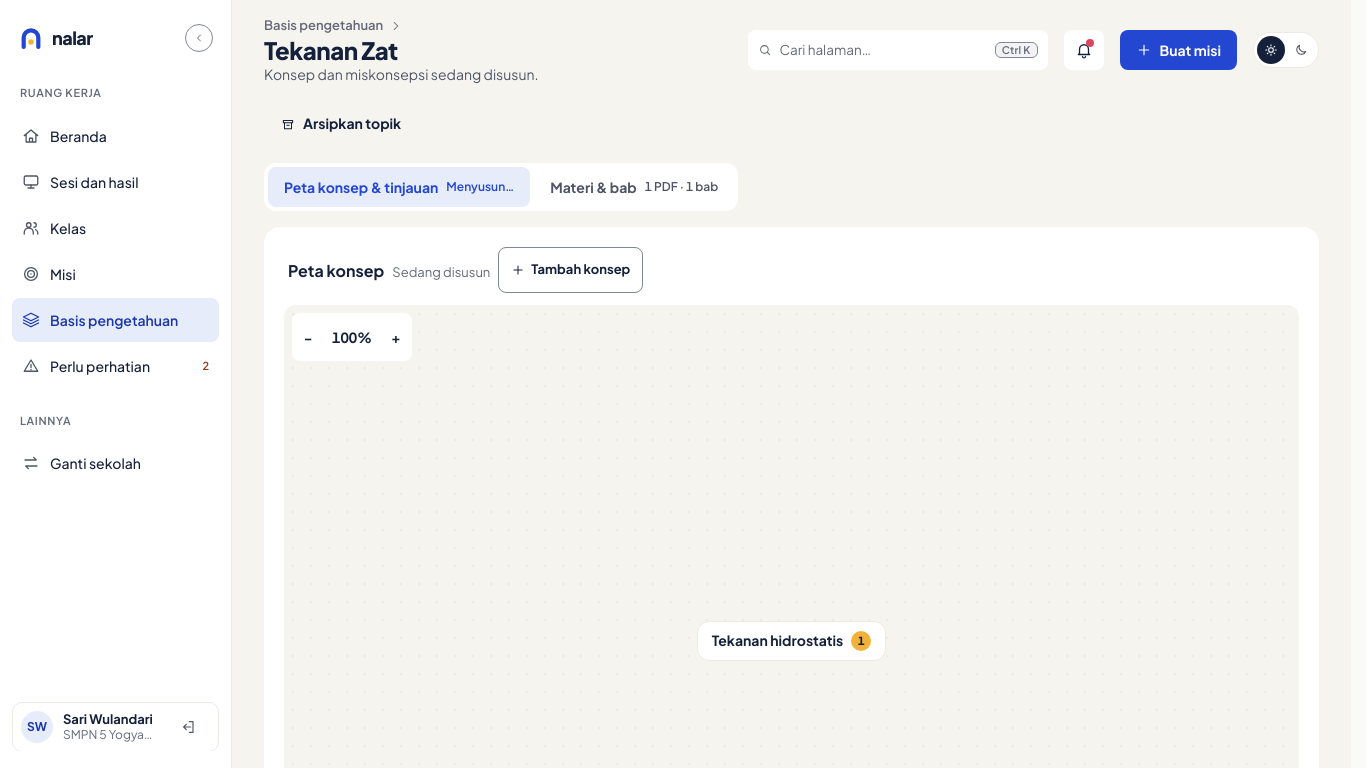
Test: signed-in teacher pages › while a chapter is built › keeps the concepts it has but shows no count until the chapter is built
Click the button "Tekanan hidrostatis 1": (792, 641) [697,621,886,661]
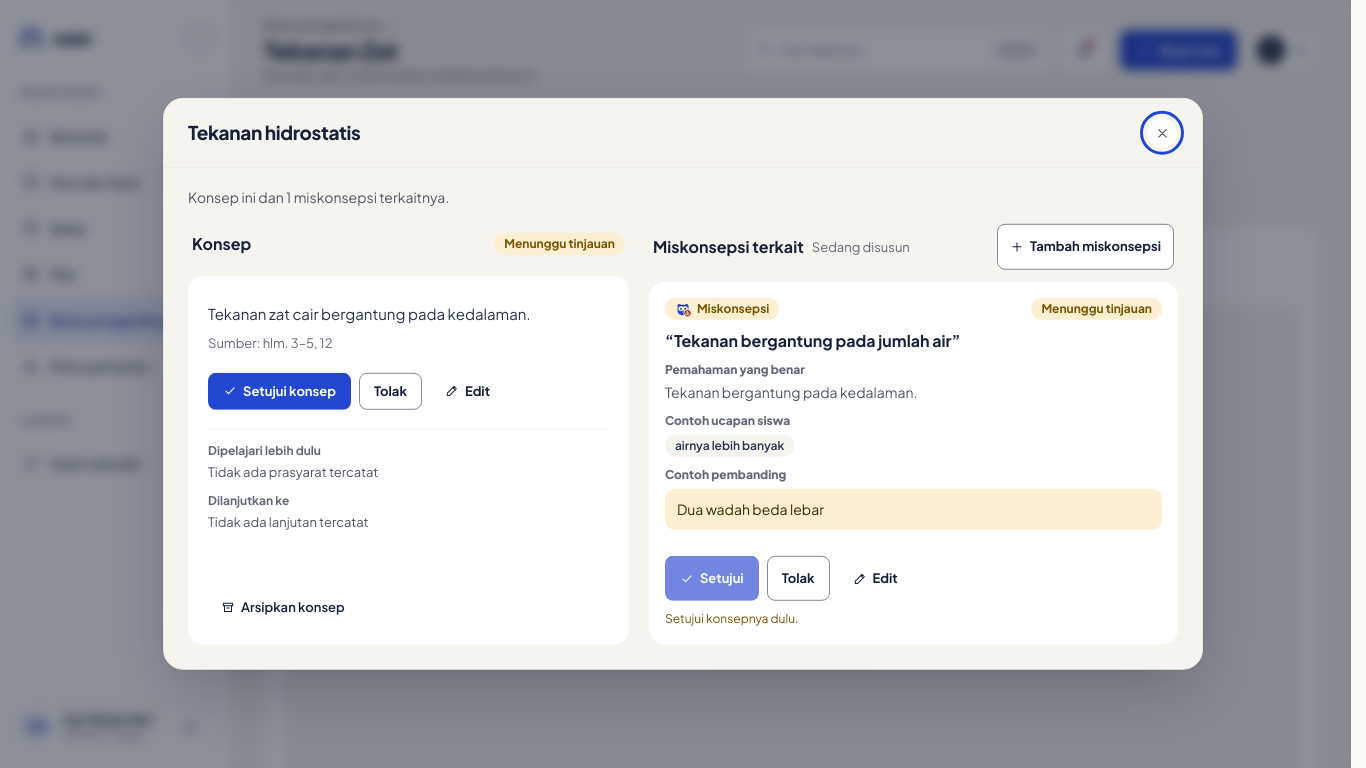
Now the heading "Tekanan hidrostatis" is shown, box [188,120,360,146]
Now the text "Sedang disusun" is shown 3 times
